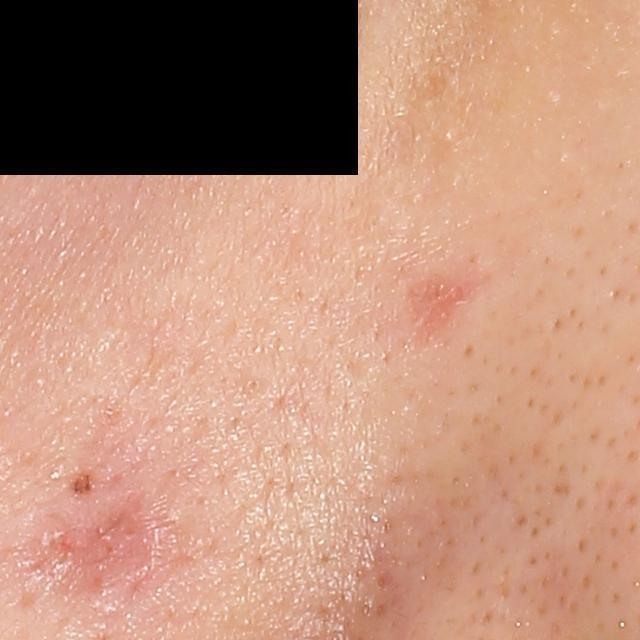nevus: (66, 471, 94, 500)
